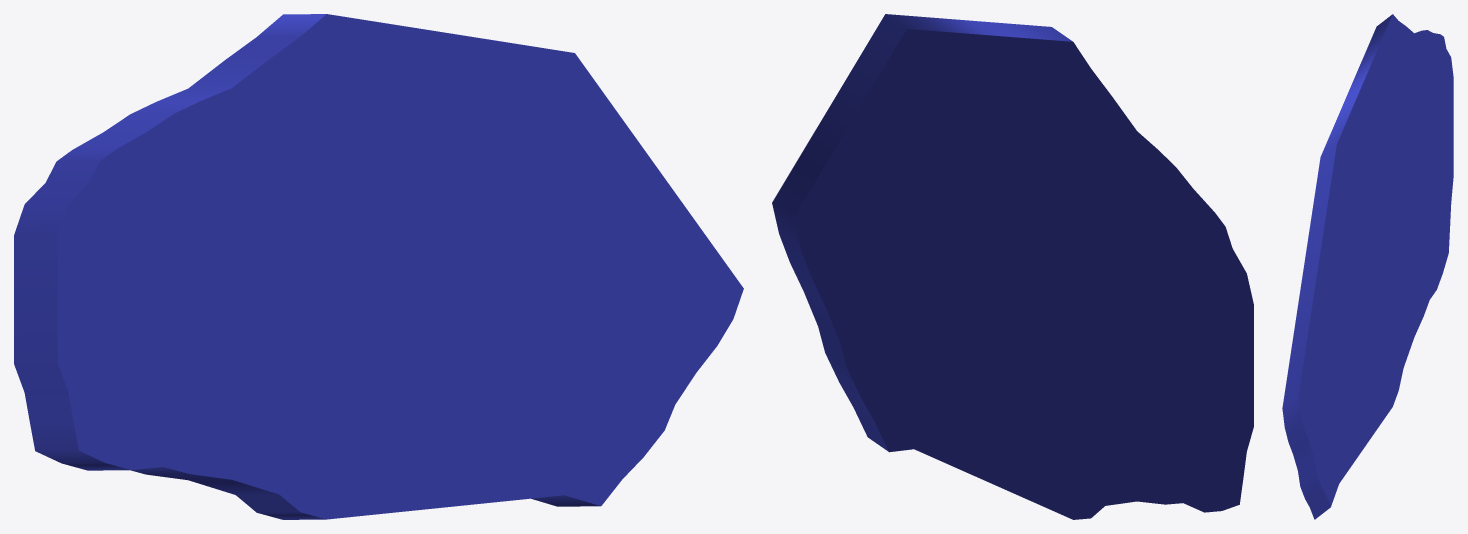
File: coal0.fbx
3 renders of one model, left to right at view 1: azimuth 30°, elevation 25°; view 2: azimuth 150°, elevation 25°; view 3: azimuth 270°, elevation 25°, orthographic. The views are drawn at different scales.
Visible parts, largest first — view 1: node_id4; view 2: node_id4; view 3: node_id4.
Boxes of the visible parts, <box> form: node_id4: <box>14,14,743,519</box>; node_id4: <box>772,14,1253,519</box>; node_id4: <box>1282,14,1453,519</box>.
Bounding box in the file's own units: 0.4894 × 0.3926 × 0.1506.
